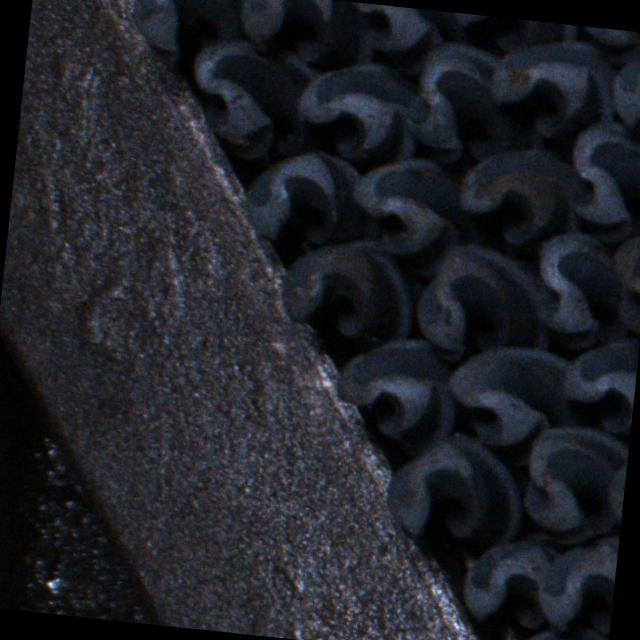tool_b: (401, 39, 549, 171), (412, 242, 560, 368), (384, 426, 528, 550), (183, 34, 320, 162), (276, 233, 418, 350), (331, 332, 465, 454), (240, 148, 384, 258), (485, 34, 623, 146), (346, 154, 470, 276), (292, 54, 428, 165), (450, 143, 586, 253), (440, 338, 572, 450), (515, 421, 628, 542), (524, 226, 632, 346), (458, 531, 568, 637), (231, 0, 378, 67), (561, 118, 640, 237), (536, 529, 619, 638), (134, 0, 254, 72), (558, 334, 640, 438), (342, 1, 452, 58), (441, 11, 578, 54), (603, 212, 640, 345), (608, 41, 640, 128), (564, 24, 640, 58), (495, 621, 608, 640)
